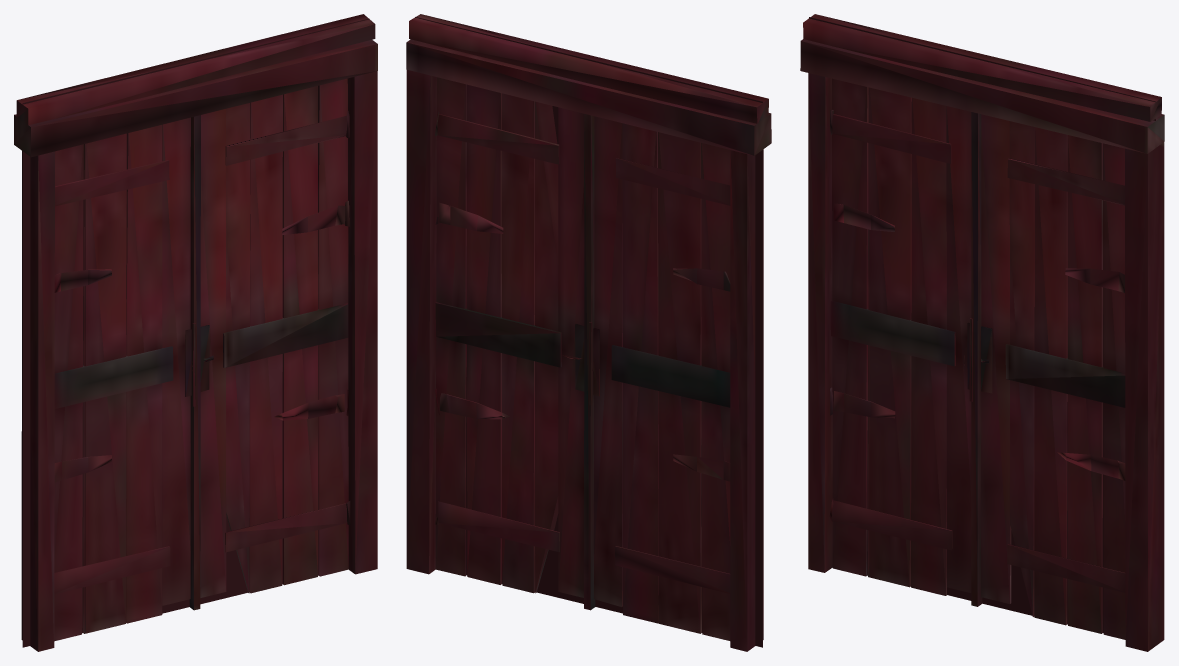
Rendered from gate.lod2.glb.
3 views of the same model, side by side, from view 1: azimuth 30°, elevation 25°; view 2: azimuth 150°, elevation 25°; view 3: azimuth 330°, elevation 25° (orthographic).
Bounding box in the file's own units: 2 × 3 × 0.1707.
Materials: 1 (1 with a texture image).
